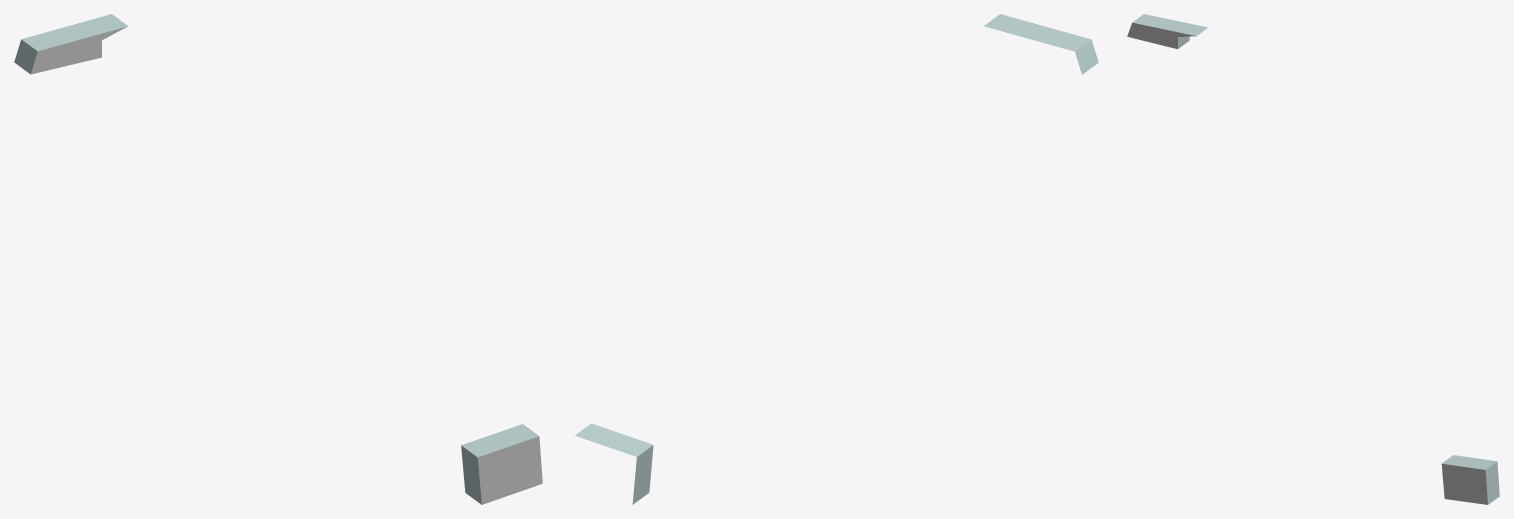
3 views of the same model, side by side, from view 1: azimuth 30°, elevation 25°; view 2: azimuth 150°, elevation 25°; view 3: azimuth 330°, elevation 25° (orthographic). The views are drawn at different scales.
Parts seen in each view (by area): view 1: 0_2_3_2_3_1_2_0; view 2: 0_2_3_2_3_1_2_0; view 3: 0_2_3_2_3_1_2_0.
Boxes of the visible parts, bbox=[...] form: 0_2_3_2_3_1_2_0: bbox=[14, 14, 542, 504]; 0_2_3_2_3_1_2_0: bbox=[575, 14, 1098, 504]; 0_2_3_2_3_1_2_0: bbox=[1127, 14, 1499, 504].
Bounding box in the file's own units: 53.1 × 56.03 × 3.47.
